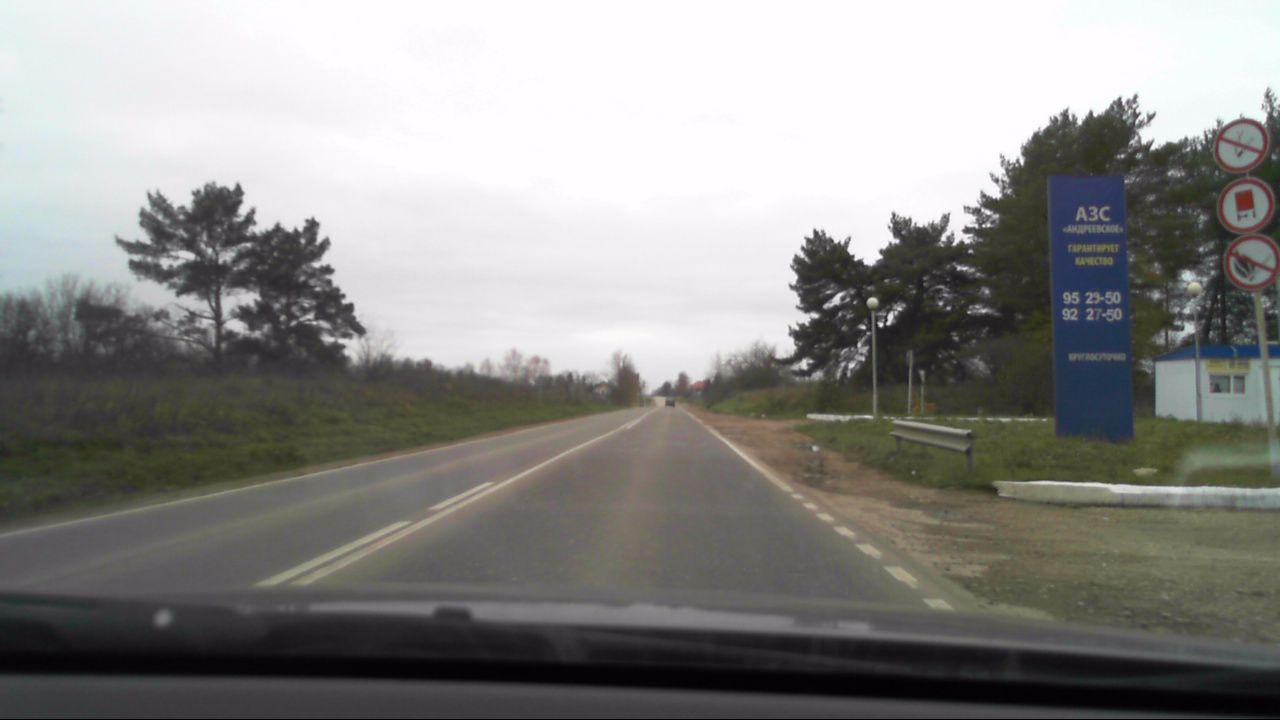3_32: (1218, 178, 1279, 237)
